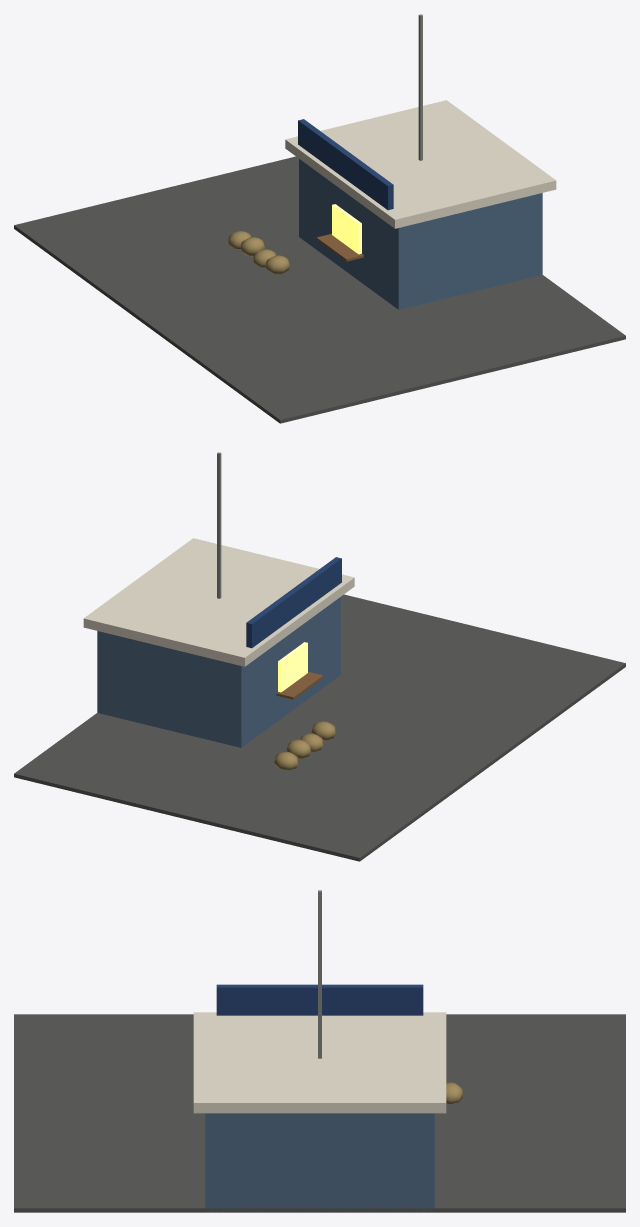
Rendered from airmail.glb.
3 renders of one model, top to bottom at view 1: azimuth 30°, elevation 25°; view 2: azimuth 150°, elevation 25°; view 3: azimuth 270°, elevation 25°, orthographic. The views are drawn at different scales.
Visible parts, largest first — view 1: 02_#5a5a58_noshadow, 03_#55708a, 04_#e8e0d0, 07_#2c4a7a_noshadow, 00_#a08a5a_r320, 05_#e8c070_noshadow, 01_#8a8a84, 06_#8a6440_r320; view 2: 02_#5a5a58_noshadow, 03_#55708a, 04_#e8e0d0, 07_#2c4a7a_noshadow, 00_#a08a5a_r320, 05_#e8c070_noshadow, 01_#8a8a84, 06_#8a6440_r320; view 3: 02_#5a5a58_noshadow, 04_#e8e0d0, 03_#55708a, 07_#2c4a7a_noshadow, 01_#8a8a84.
Part boxes in pixels (left/top/right/bottom): 02_#5a5a58_noshadow: left=14, top=156, right=625, bottom=423; 03_#55708a: left=299, top=159, right=542, bottom=309; 04_#e8e0d0: left=285, top=100, right=556, bottom=228; 07_#2c4a7a_noshadow: left=298, top=119, right=393, bottom=210; 00_#a08a5a_r320: left=228, top=231, right=289, bottom=274; 05_#e8c070_noshadow: left=332, top=204, right=361, bottom=254; 01_#8a8a84: left=418, top=14, right=422, bottom=160; 06_#8a6440_r320: left=316, top=233, right=363, bottom=261; 02_#5a5a58_noshadow: left=14, top=594, right=625, bottom=861; 03_#55708a: left=97, top=597, right=340, bottom=747; 04_#e8e0d0: left=83, top=538, right=354, bottom=666; 07_#2c4a7a_noshadow: left=246, top=557, right=341, bottom=648; 00_#a08a5a_r320: left=274, top=721, right=336, bottom=769; 05_#e8c070_noshadow: left=278, top=642, right=307, bottom=692; 01_#8a8a84: left=217, top=452, right=221, bottom=598; 06_#8a6440_r320: left=276, top=671, right=323, bottom=699; 02_#5a5a58_noshadow: left=14, top=1014, right=625, bottom=1212; 04_#e8e0d0: left=193, top=1012, right=446, bottom=1113; 03_#55708a: left=205, top=1113, right=434, bottom=1212; 07_#2c4a7a_noshadow: left=216, top=984, right=423, bottom=1015; 01_#8a8a84: left=318, top=890, right=321, bottom=1058.
Bounding box in the file's own units: 12.3 × 8.13 × 16.
